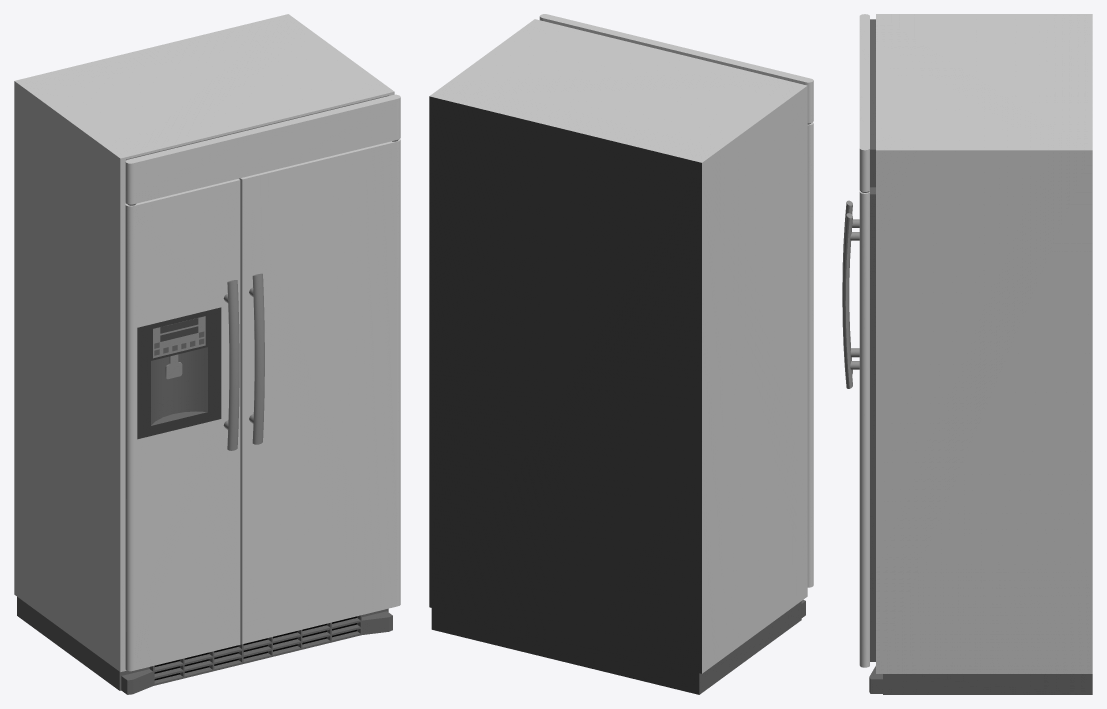
The model's file is fridge.glb.
The picture shows the model from 3 angles, left to right: view 1: azimuth 30°, elevation 25°; view 2: azimuth 150°, elevation 25°; view 3: azimuth 270°, elevation 25°; orthographic projection. The views are drawn at different scales.
Visible parts, largest first — view 1: Mesh1_gris_claro_0; view 2: Mesh1_gris_claro_0; view 3: Mesh1_gris_claro_0.
Part boxes in pixels (bbox=[...]): Mesh1_gris_claro_0: bbox=[14, 14, 400, 694]; Mesh1_gris_claro_0: bbox=[429, 14, 813, 694]; Mesh1_gris_claro_0: bbox=[842, 14, 1092, 694].
Bounding box in the file's own units: 105 × 195 × 80.99.
1 material, 1 textured.
